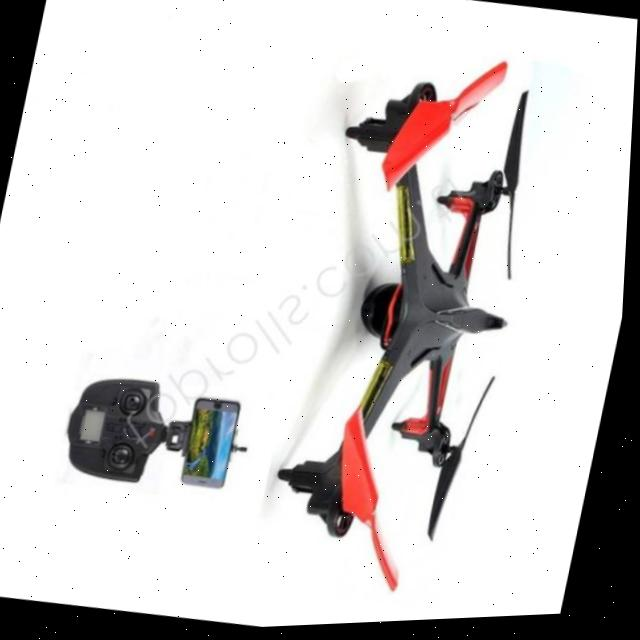drones: (240, 15, 579, 623)
